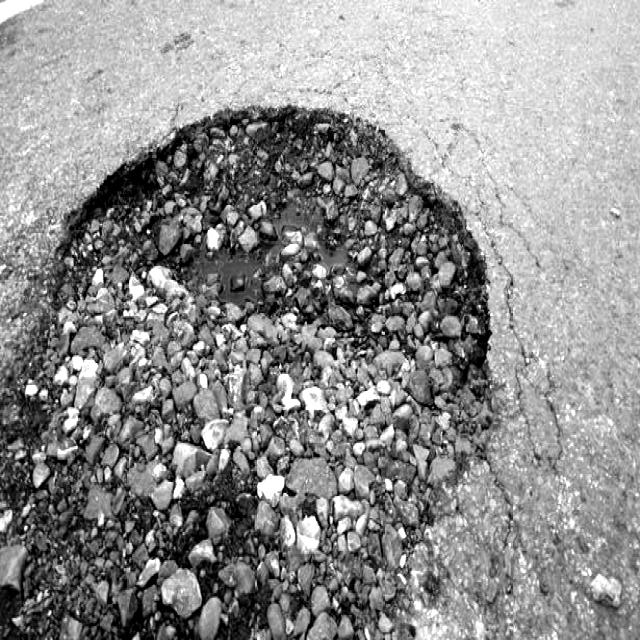pathole: (8, 63, 495, 640)
